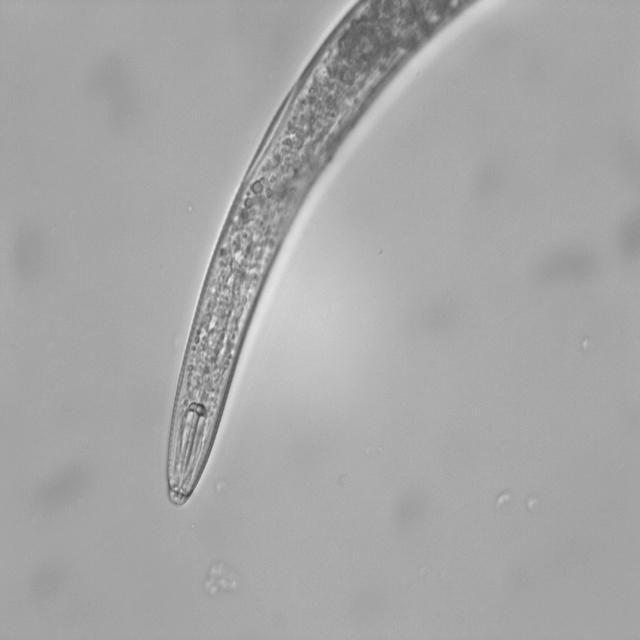Helicotylenchus: (156, 0, 503, 514)
